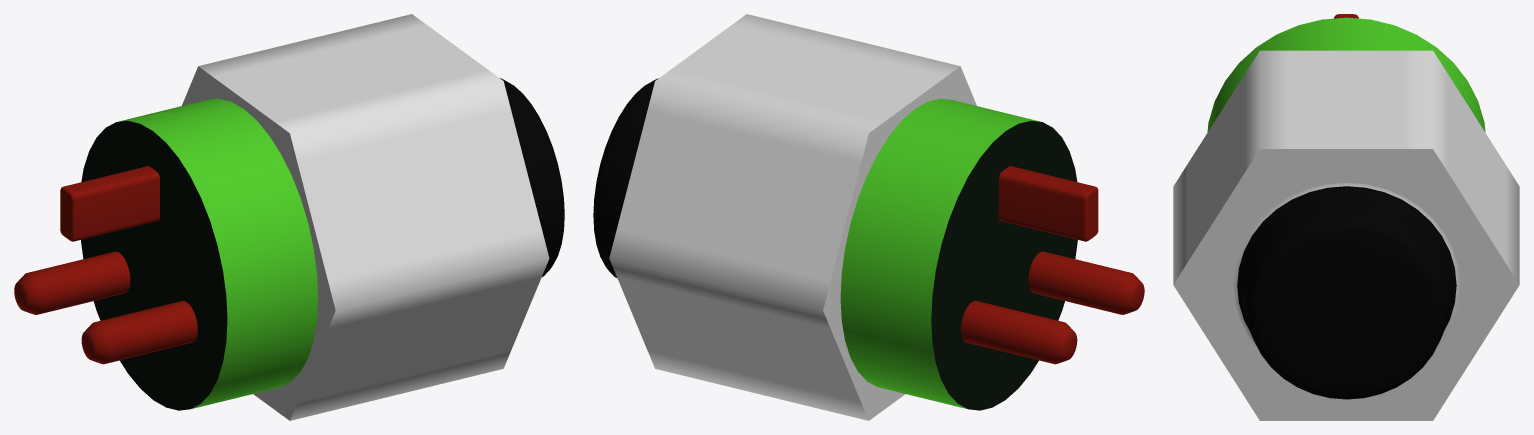
Rendered from EnchufeMacho 1.fbx.
3 views of the same model, side by side, from view 1: azimuth 30°, elevation 25°; view 2: azimuth 150°, elevation 25°; view 3: azimuth 270°, elevation 25° (orthographic). The views are drawn at different scales.
Parts seen in each view (by area): view 1: EnchufeMacho_Low; view 2: EnchufeMacho_Low; view 3: EnchufeMacho_Low.
Boxes of the visible parts, left/top/right/bottom form: EnchufeMacho_Low: left=14, top=14, right=564, bottom=420; EnchufeMacho_Low: left=593, top=14, right=1144, bottom=420; EnchufeMacho_Low: left=1173, top=14, right=1519, bottom=420.
Size of the model in its own units: 0.7722 by 0.4547 by 0.525.
